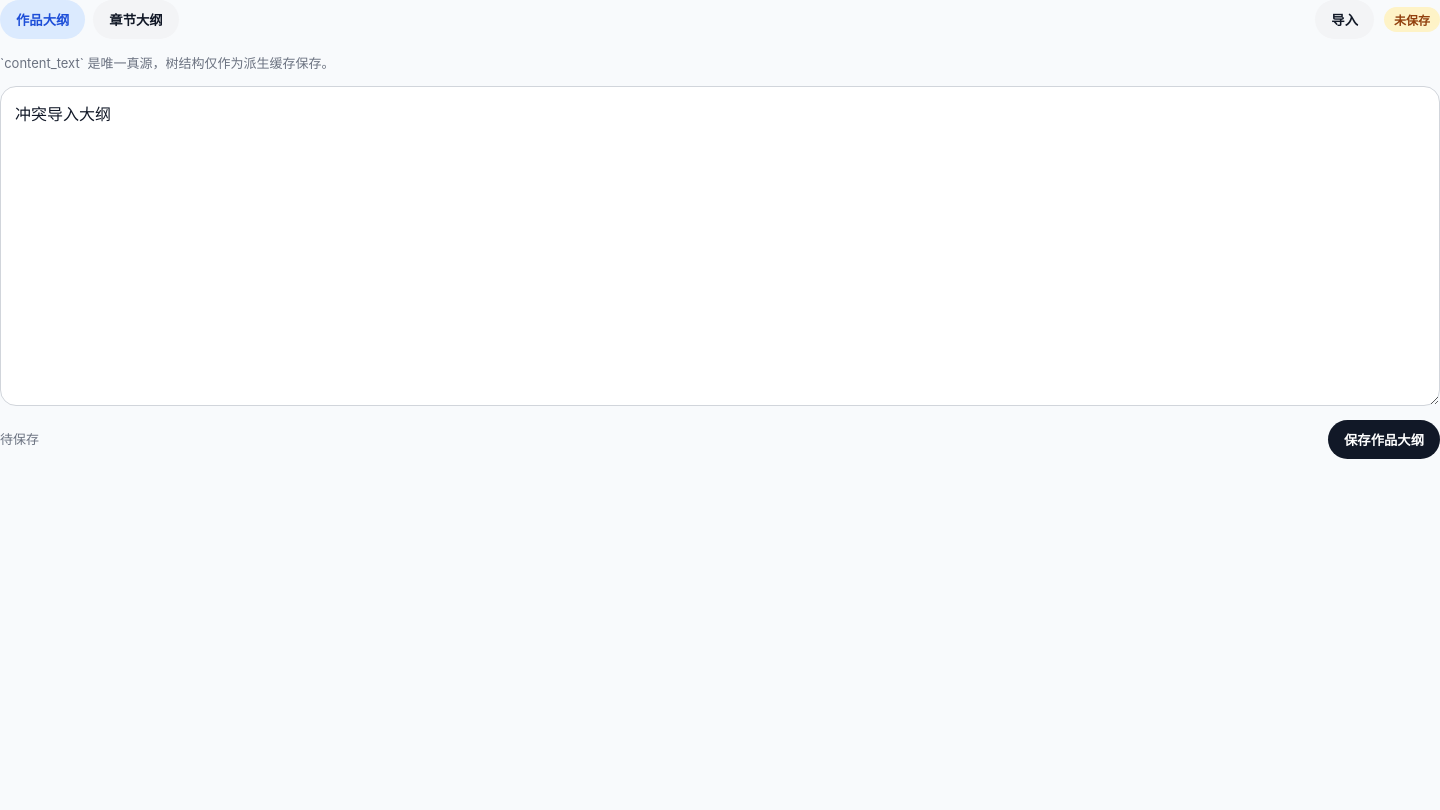
Test case: OutlinePanel › keeps imported local draft and opens conflict modal after 409
Click the button with class "save-button".
click(1384, 439)  # box [1328,420,1439,459]
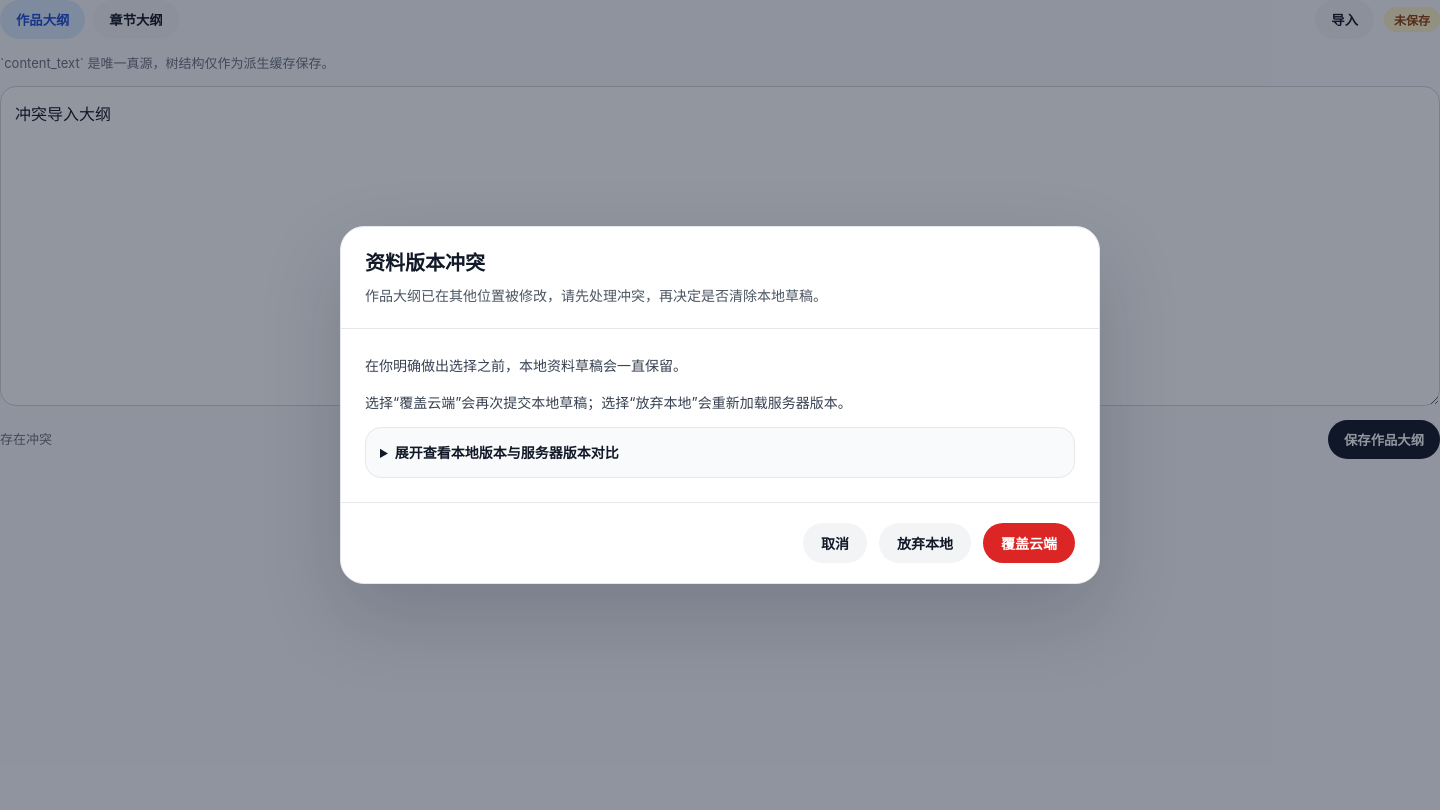
Now the element that starts with "资料版本冲突" is shown
Now the text "资料版本冲突" is shown, box [365,251,485,275]
